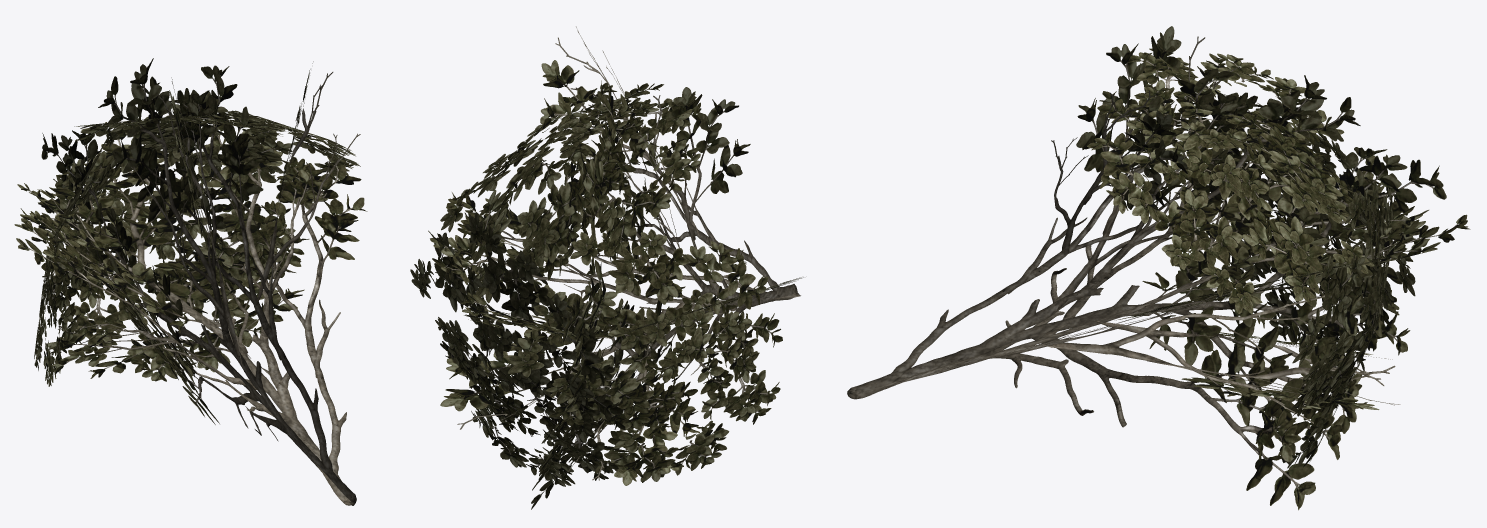
The model's file is TI_Bush_02_Branch_01.fbx.
3 renders of one model, left to right at view 1: azimuth 30°, elevation 25°; view 2: azimuth 150°, elevation 25°; view 3: azimuth 270°, elevation 25°, orthographic. The views are drawn at different scales.
Visible parts, largest first — view 1: TI_Bush_02_Branch_01; view 2: TI_Bush_02_Branch_01; view 3: TI_Bush_02_Branch_01.
Boxes of the visible parts, <box> form: TI_Bush_02_Branch_01: <box>14,58,367,505</box>; TI_Bush_02_Branch_01: <box>410,26,803,509</box>; TI_Bush_02_Branch_01: <box>847,26,1470,510</box>.
Bounding box in the file's own units: 1.1 × 1.24 × 1.49.
